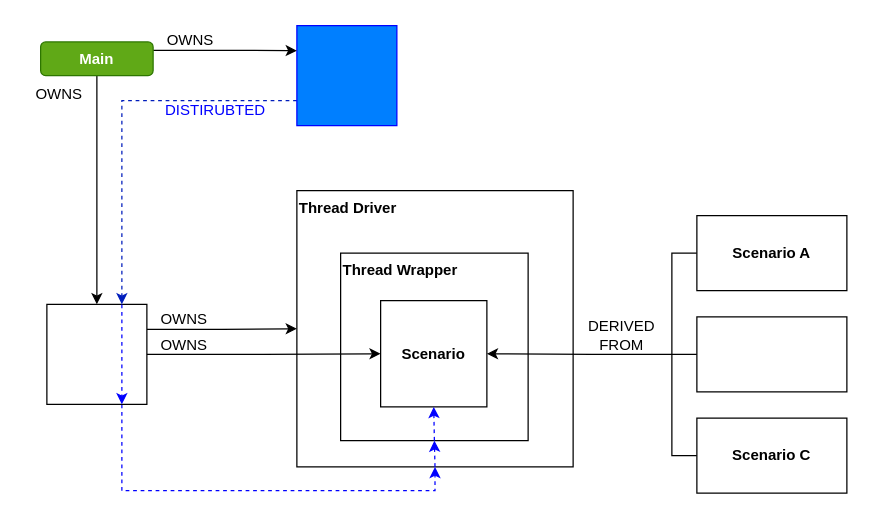
Image size: 869x523. Some labels were removed from this diagram. The centre of each missing label's shape, as x and y in pixels:
Event Logger: the point at 346,75
Scenario B: the point at 771,354
Thread Manager: the point at 96,353
